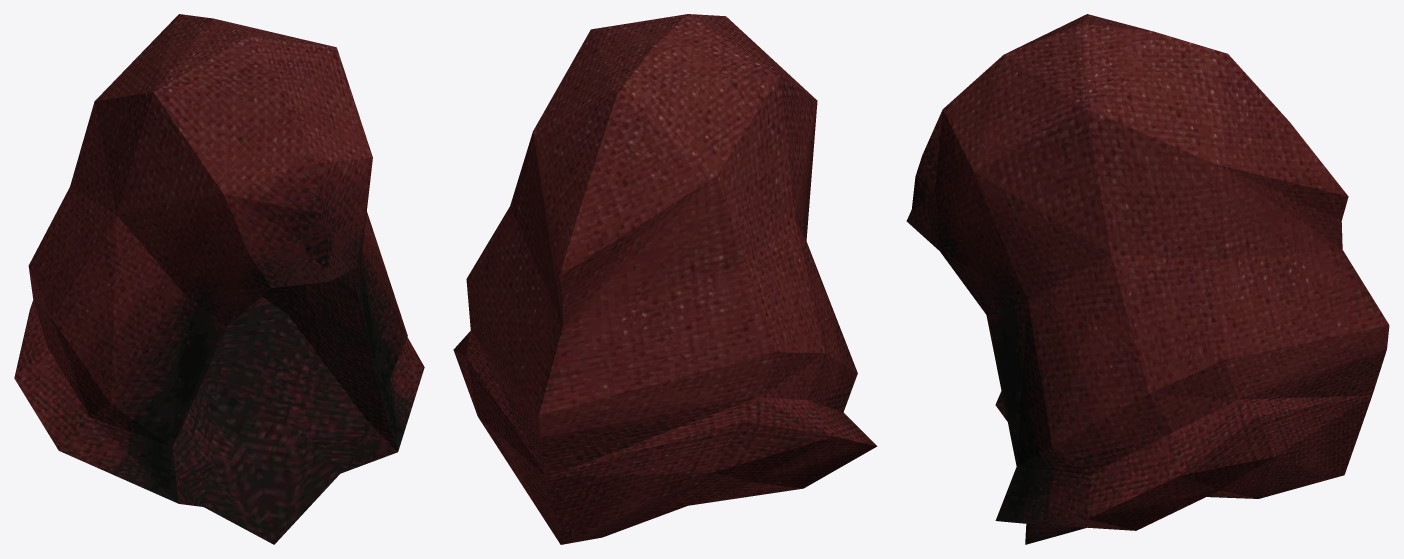
The model's file is HUM_HELM_2CZ.glb.
The picture shows the model from 3 angles, left to right: view 1: azimuth 30°, elevation 25°; view 2: azimuth 150°, elevation 25°; view 3: azimuth 270°, elevation 25°; orthographic projection. The views are drawn at different scales.
Parts seen in each view (by area): view 1: HUM_HELM_2CZ; view 2: HUM_HELM_2CZ; view 3: HUM_HELM_2CZ.
Boxes of the visible parts, box(x1,y1,x2,y2) form: HUM_HELM_2CZ: box(14, 14, 424, 544); HUM_HELM_2CZ: box(453, 14, 877, 544); HUM_HELM_2CZ: box(906, 14, 1389, 544).
Size of the model in its own units: 0.3241 by 0.4106 by 0.345.
Materials: 1 (1 with a texture image).
